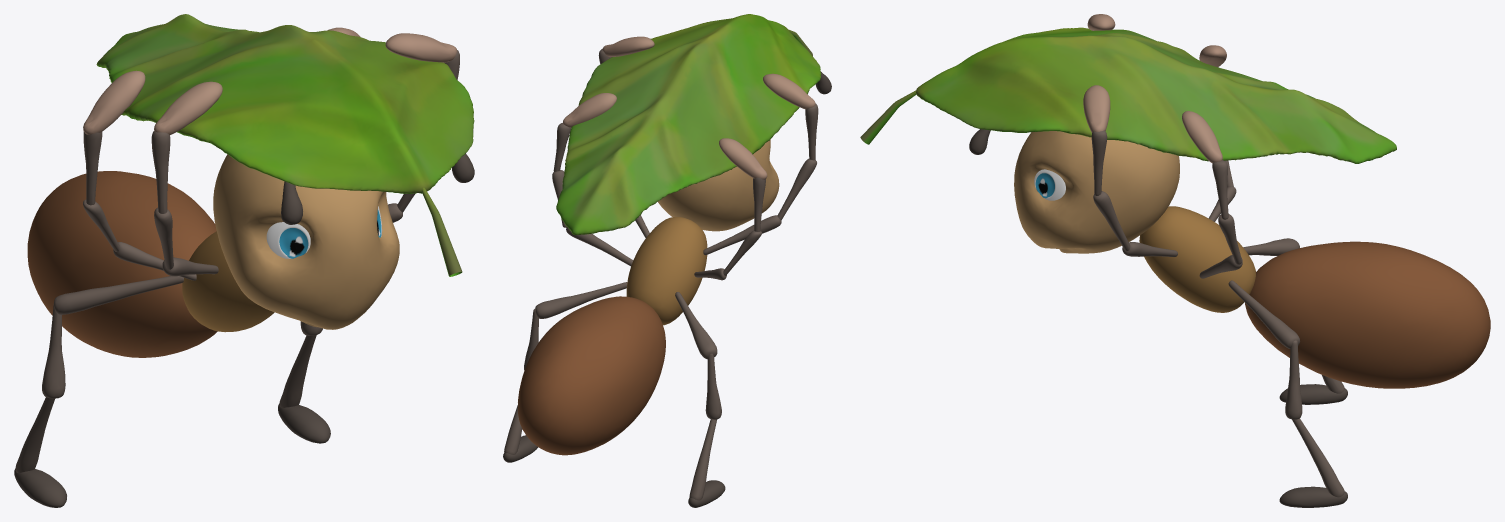
Rendered from ant.gltf.
The picture shows the model from 3 angles, left to right: view 1: azimuth 30°, elevation 25°; view 2: azimuth 150°, elevation 25°; view 3: azimuth 270°, elevation 25°; orthographic projection. The views are drawn at different scales.
Visible parts, largest first — view 1: Ant, Leaf, Eyes; view 2: Ant, Leaf; view 3: Ant, Leaf, Eyes.
Boxes of the visible parts, bbox=[...] form: Ant: bbox=[14, 27, 474, 507]; Leaf: bbox=[96, 14, 474, 276]; Eyes: bbox=[266, 206, 382, 258]; Ant: bbox=[503, 36, 831, 507]; Leaf: bbox=[556, 14, 821, 235]; Ant: bbox=[969, 14, 1490, 507]; Leaf: bbox=[860, 27, 1396, 163]; Eyes: bbox=[1034, 169, 1065, 200].
Size of the model in its own units: 1.2 by 1.96 by 2.67.
